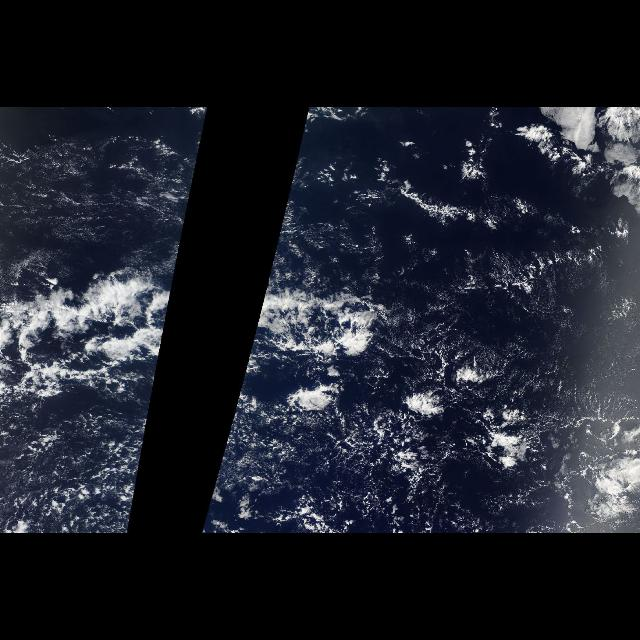Fish: (8, 275, 174, 389), (239, 275, 373, 389)
Gravel: (200, 394, 484, 534), (0, 394, 152, 534)
Sugar: (238, 240, 640, 526), (10, 133, 192, 277)
